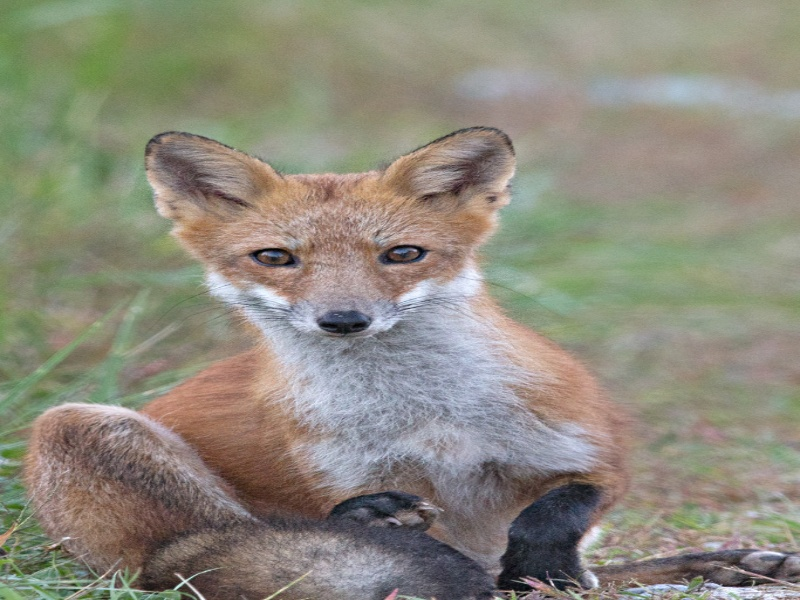fox: (26, 130, 793, 600)
